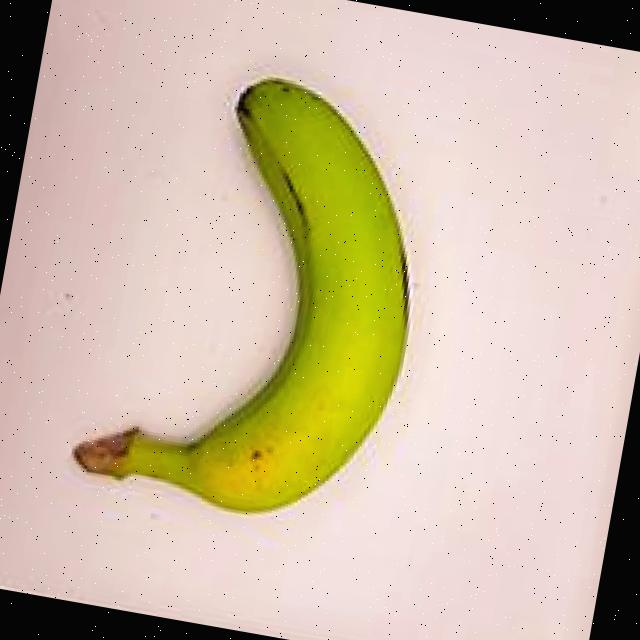Unripe: (42, 28, 469, 556)
